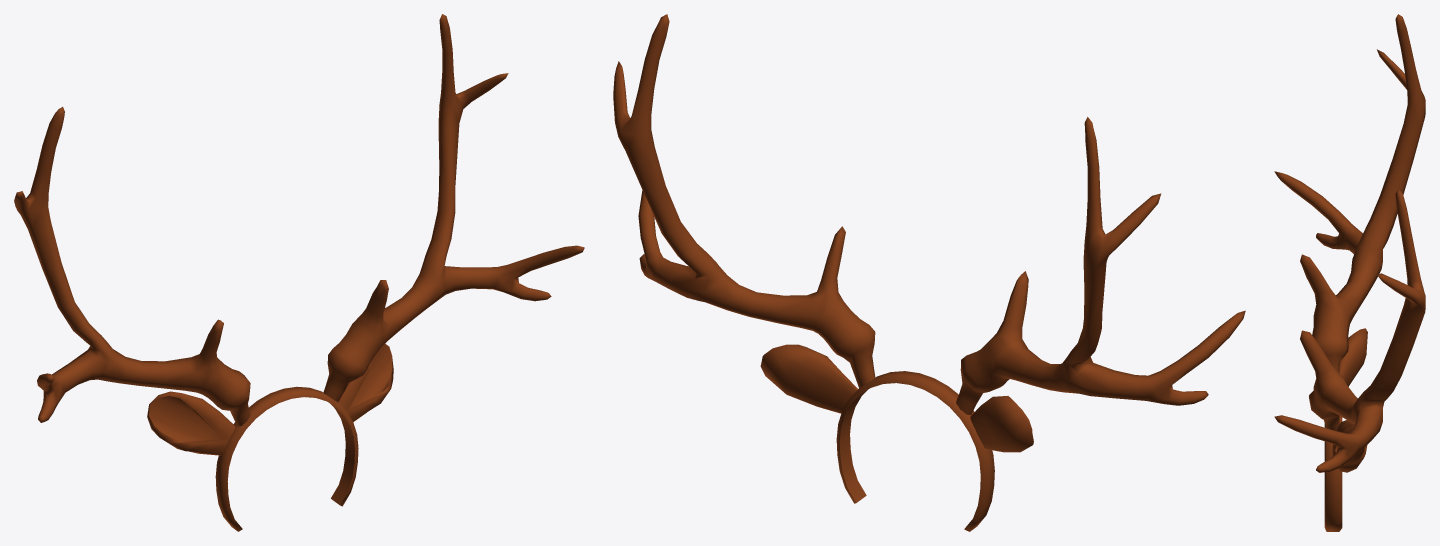
File: antler.fbx
The picture shows the model from 3 angles, left to right: view 1: azimuth 30°, elevation 25°; view 2: azimuth 150°, elevation 25°; view 3: azimuth 270°, elevation 25°; orthographic projection. The views are drawn at different scales.
Parts seen in each view (by area): view 1: antler hat; view 2: antler hat; view 3: antler hat.
Boxes of the visible parts, bbox=[...] form: antler hat: bbox=[14, 14, 584, 531]; antler hat: bbox=[613, 14, 1245, 531]; antler hat: bbox=[1274, 14, 1425, 531].
Bounding box in the file's own units: 67.98 × 52.26 × 17.65.
